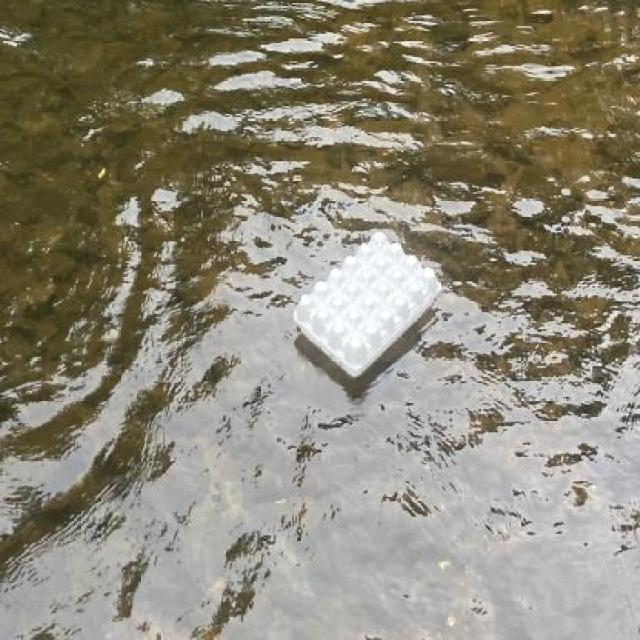Plastic: (290, 214, 447, 383)
